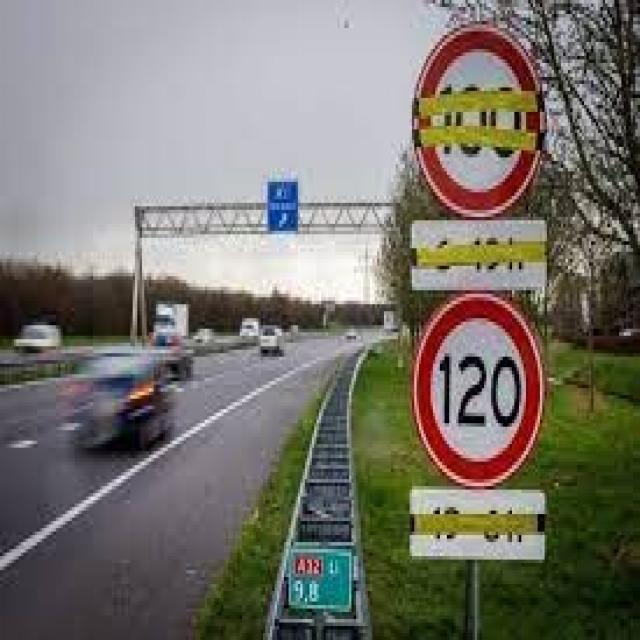speed_limit_120: (411, 290, 545, 488)
